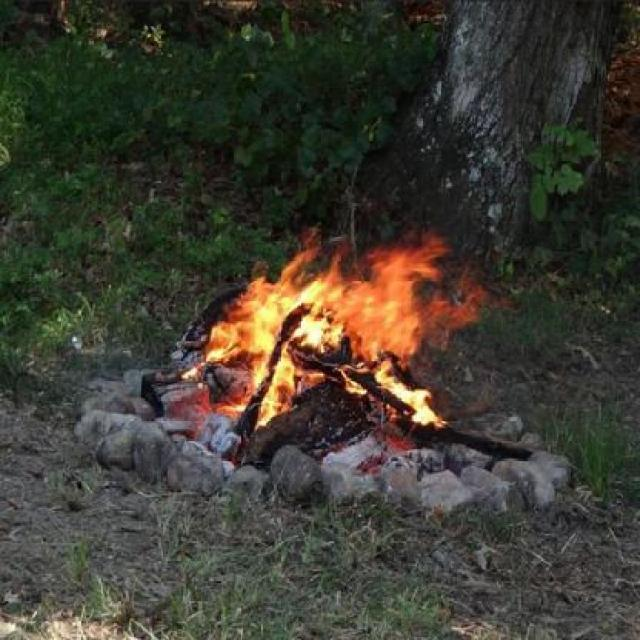Fire: (174, 223, 510, 434)
